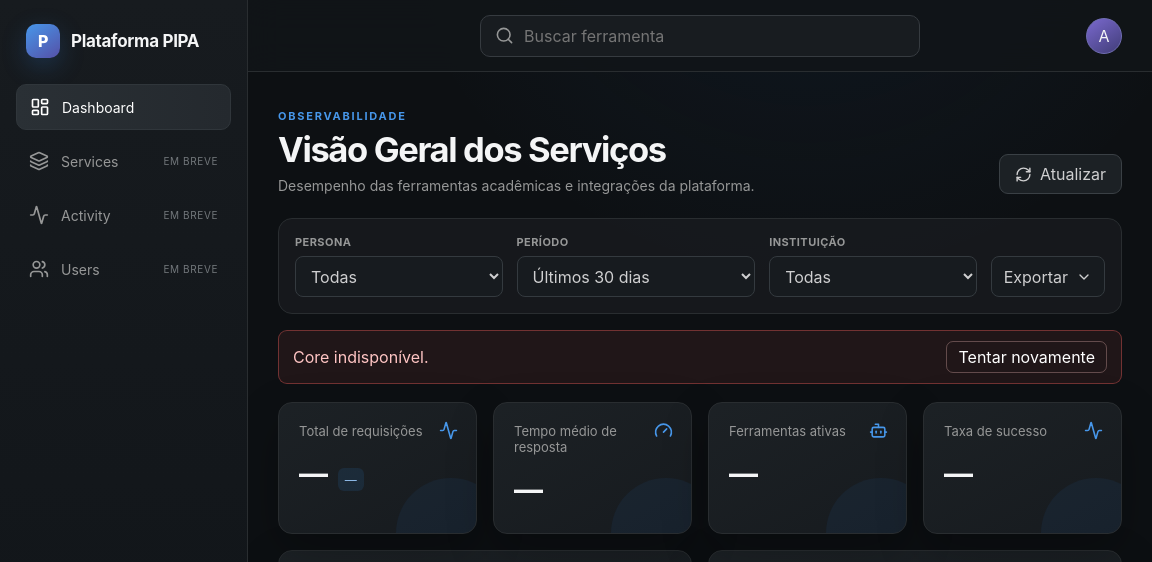
Test: Dashboard › exibe falha recuperável e tenta novamente
Expected: the message shows "Core indisponível.", x1=293 y1=347 x2=428 y2=367
Click the button "Tentar novamente" at [1027, 357], box x1=946 y1=341 x2=1107 y2=373
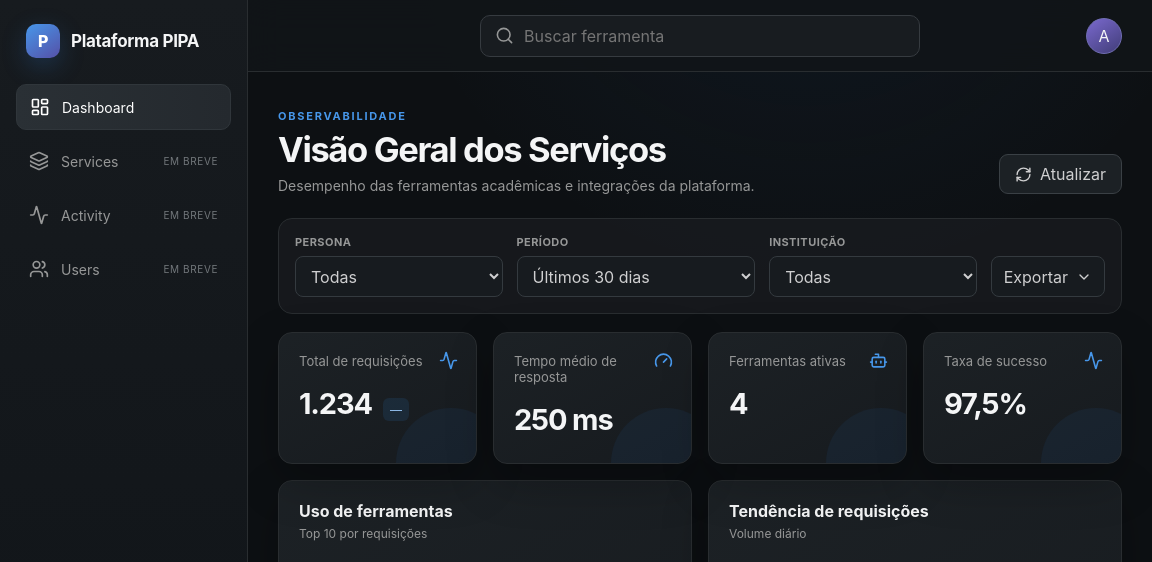
Expected: the text "1.234" is shown, x1=299 y1=386 x2=372 y2=421
